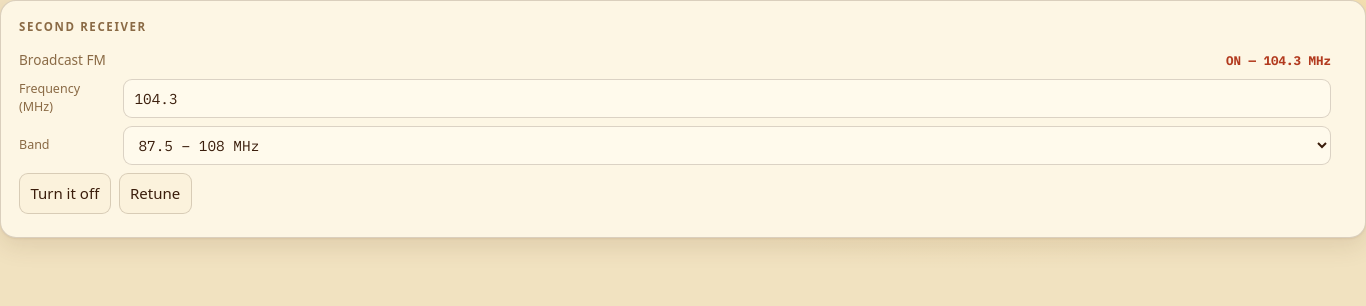
Test case: BroadcastFmPanel — retuning without stopping it (#226, #227) › reports the radio's own answer, even when the retune moved nothing
What coordinates should you click on to do the following:
click the button "Retune"
I would click on:
 (155, 193)
Its box is [119,173,192,214].
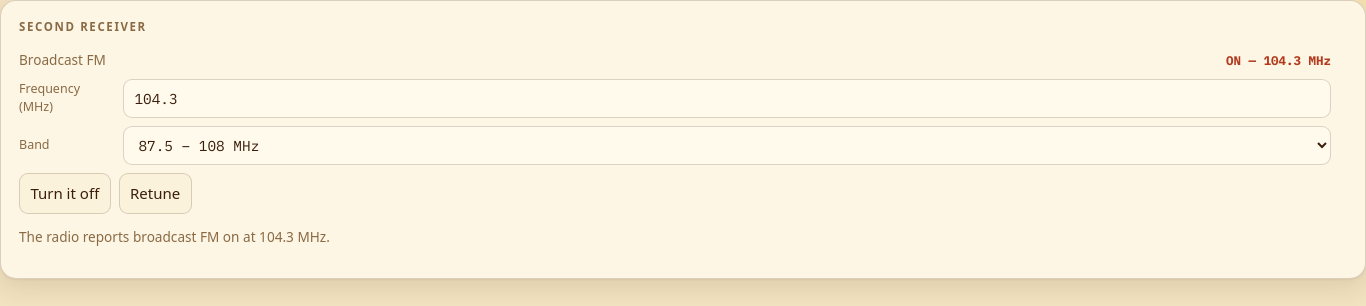
Check: the message shows "104.3 MHz", box [133,227,326,246]
